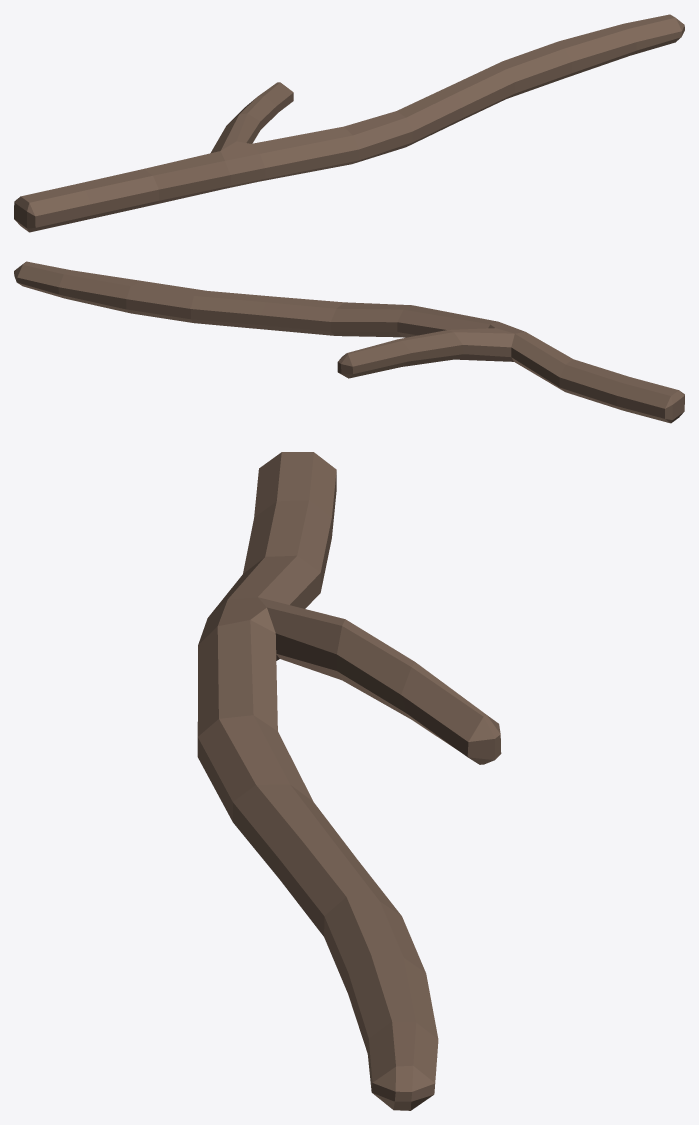
Rendered from Stick_02.fbx.
The picture shows the model from 3 angles, top to bottom: view 1: azimuth 30°, elevation 25°; view 2: azimuth 150°, elevation 25°; view 3: azimuth 270°, elevation 25°; orthographic projection. The views are drawn at different scales.
Parts seen in each view (by area): view 1: Stick_02; view 2: Stick_02; view 3: Stick_02.
Boxes of the visible parts, x1,y1,x2,y2 form: Stick_02: (14, 14, 684, 232); Stick_02: (14, 261, 684, 423); Stick_02: (197, 452, 501, 1110).
Bounding box in the file's own units: 67.39 × 4.66 × 13.91.
